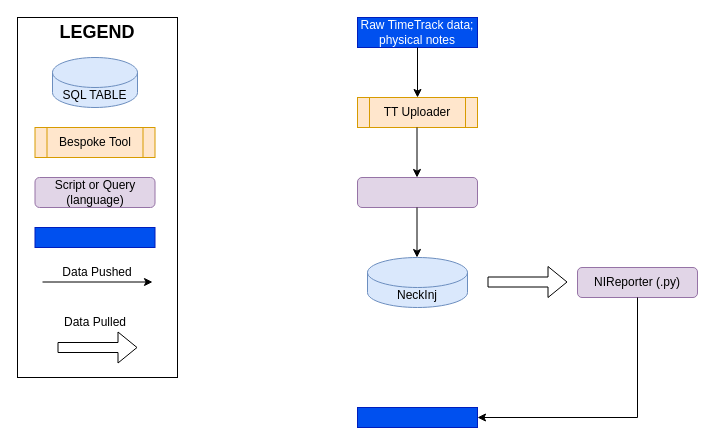
The diagram is 715 pixels wide and 445 high, and some of its shapes have lost their labels. The centre of each missing label's shape, as x and y in pixels:
"Data: Format" belongs at point (94, 237).
"NIReport: .xlsx" belongs at point (417, 417).
"Query to update NeckInj (T-SQL)" belongs at point (417, 192).
